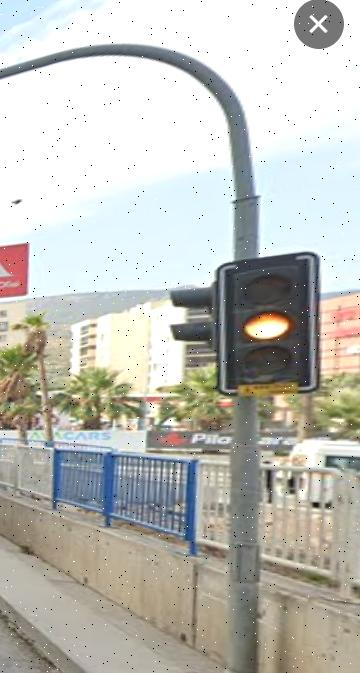yellowlight: (221, 255, 317, 389)
